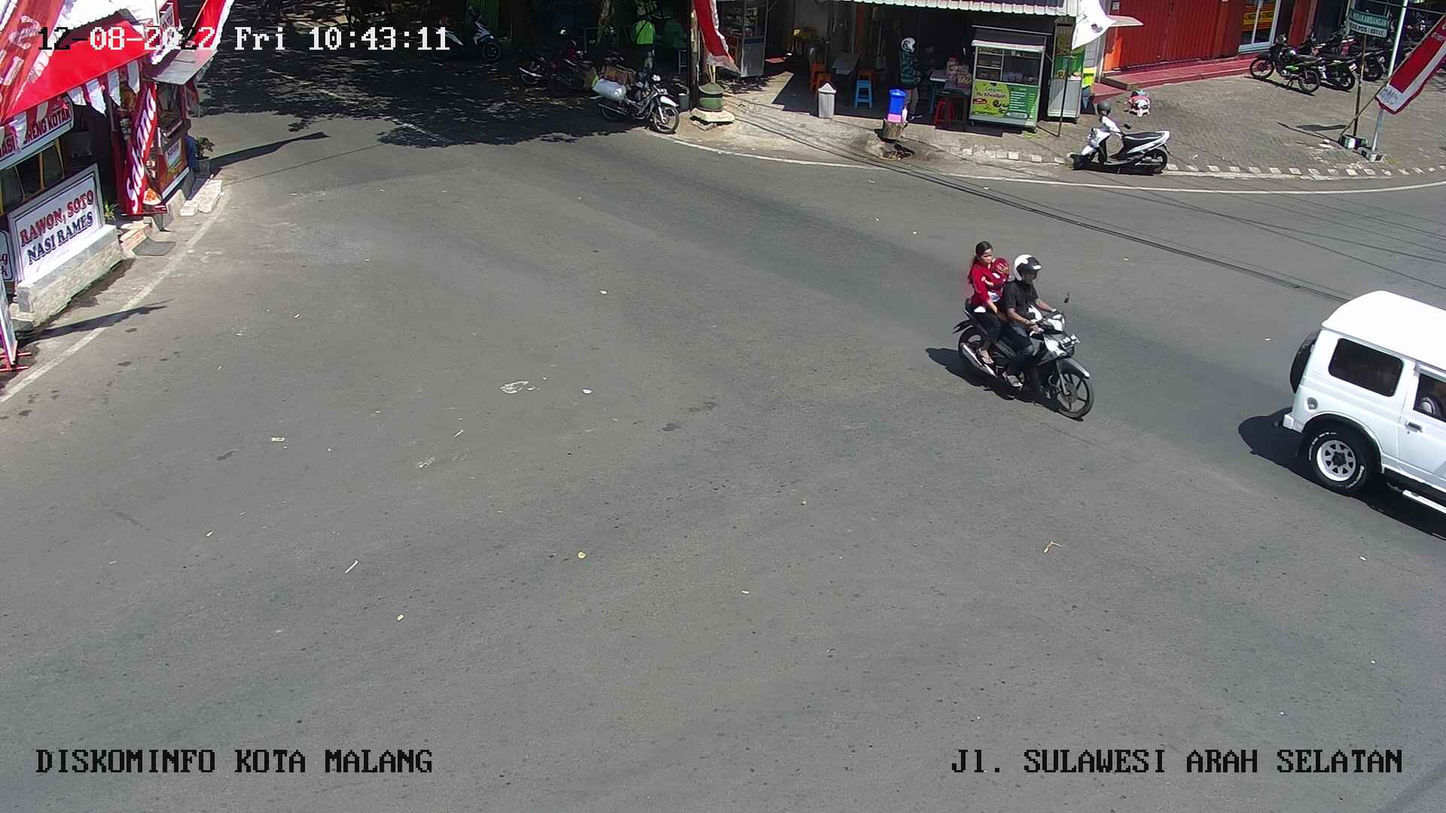with_helmet: (1006, 249, 1109, 433)
without_helmet: (929, 230, 1013, 386)
